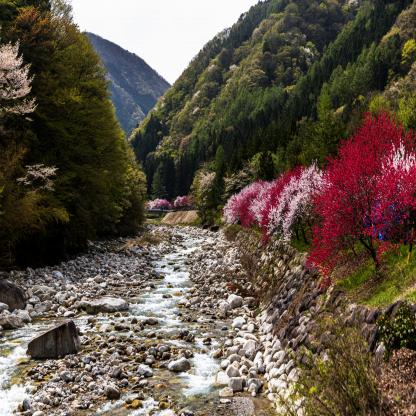Momo: (302, 104, 416, 292), (293, 160, 332, 238), (264, 166, 298, 242), (240, 180, 274, 226), (221, 181, 248, 226), (172, 194, 192, 210), (144, 199, 171, 209)
